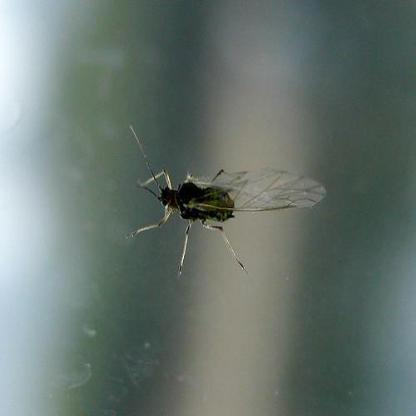aphid: (117, 118, 329, 285)
